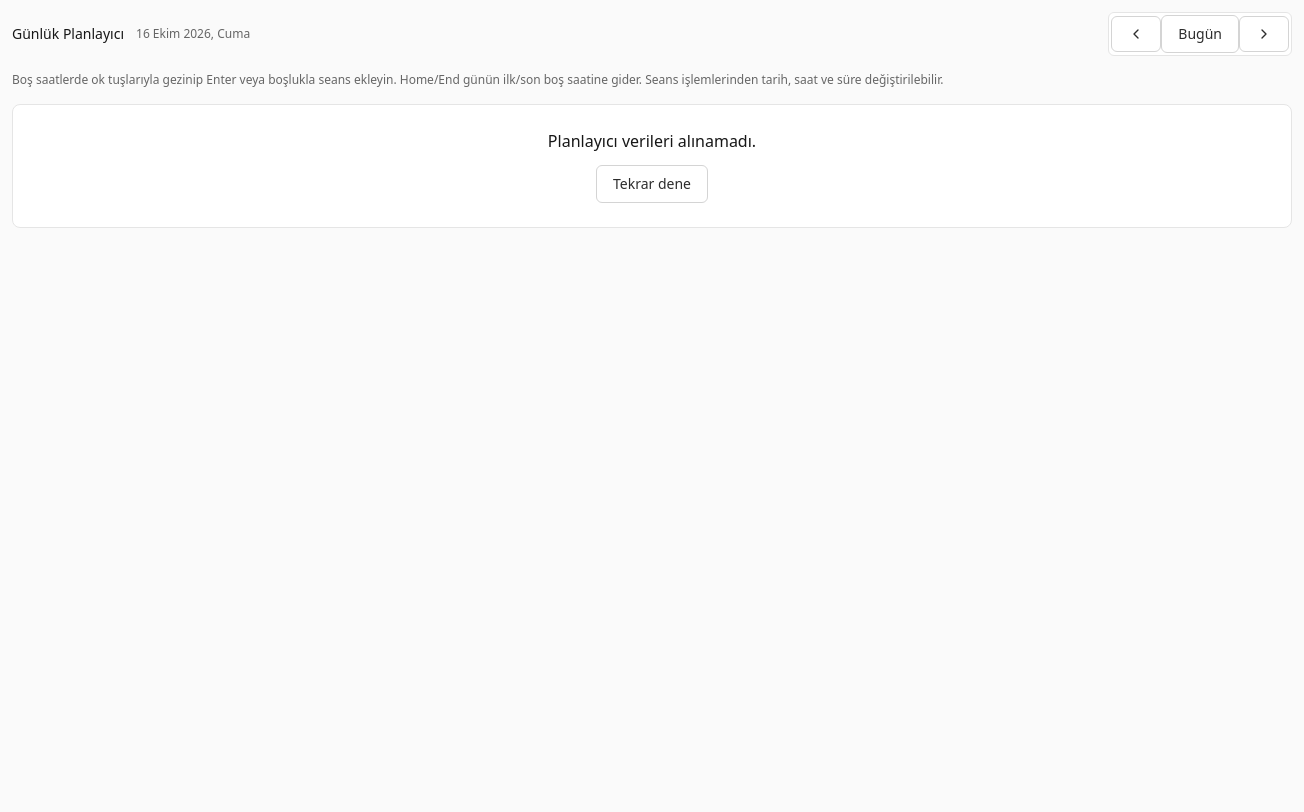
Scenario: daily shared planner › shows read errors explicitly and retries instead of rendering an empty calendar
Check: the message "Planlayıcı verileri alınamadı. Tekrar dene" is shown, box [12,104,1292,228]
Click the button "Tekrar dene" at (652, 184), box [596,165,708,203]
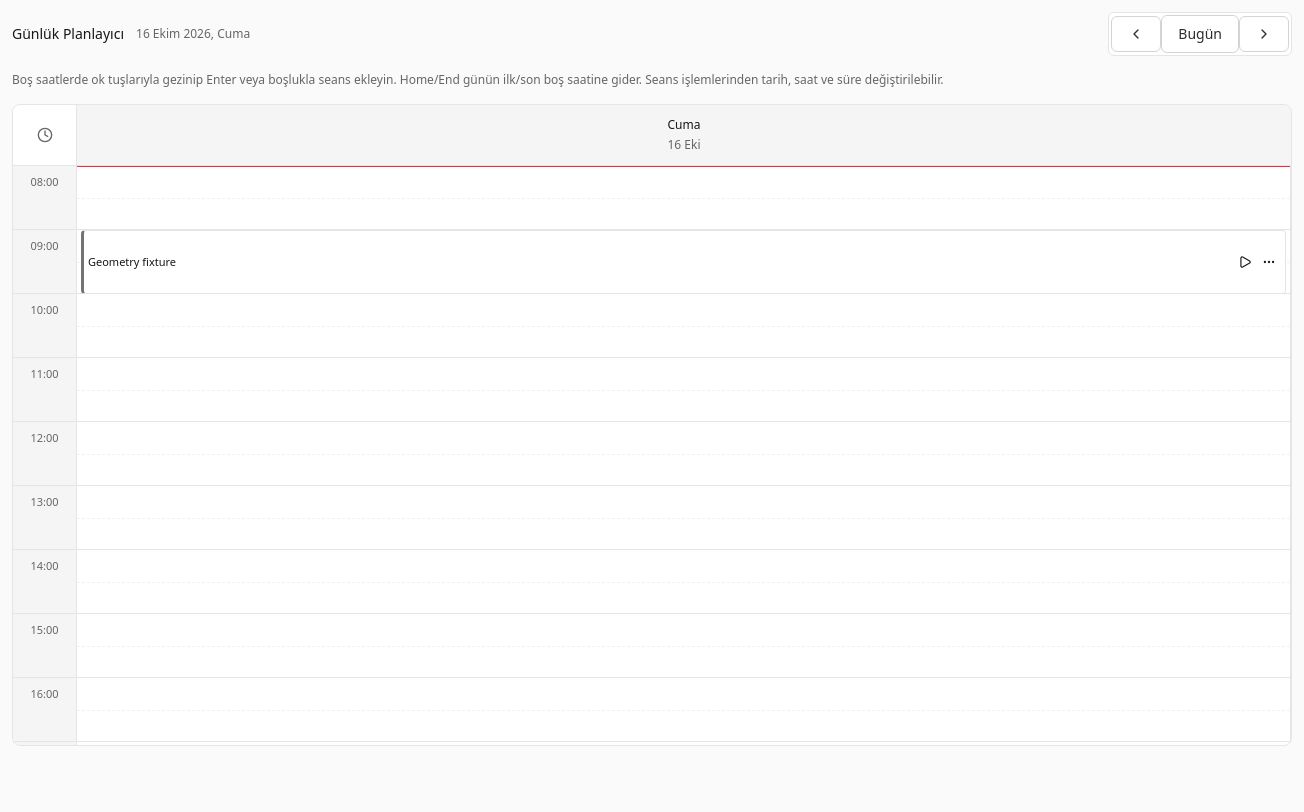
Check: the button "Geometry fixture" is shown, box [88,250,1229,274]
